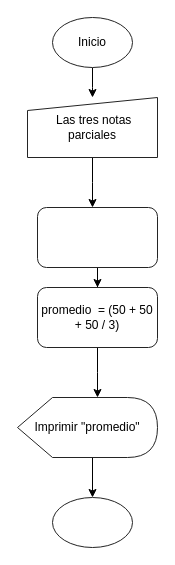
This 175x565 diagram has some shape labels left out. The shapes that lost their labels are listed below. From the top down, each one's centre as x and y in pixels, then its label:
At pixel 97 237: "Escribir las tres notas parciales:".
At pixel 92 522: "Fin".
